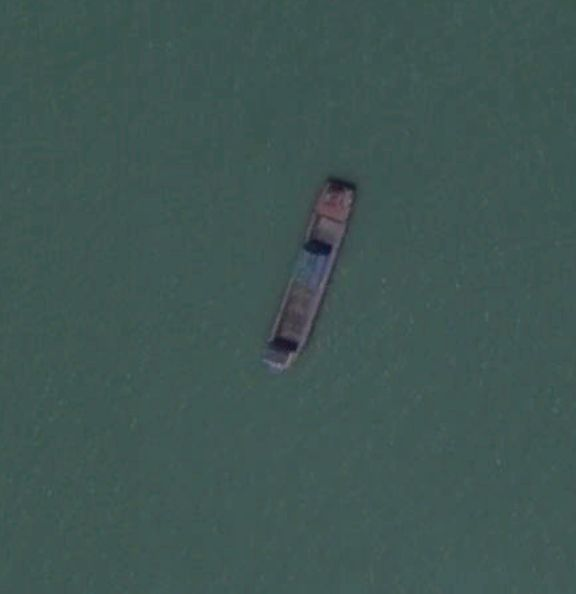boat: (259, 177, 360, 371)
